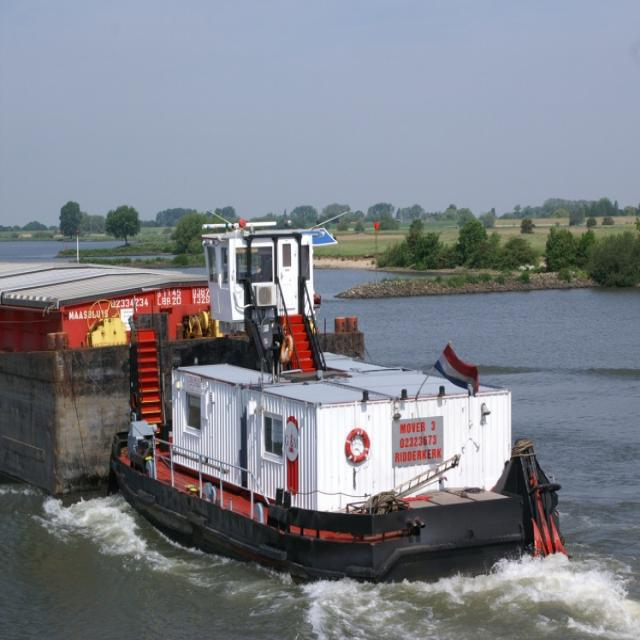tugboat: (106, 210, 576, 607)
